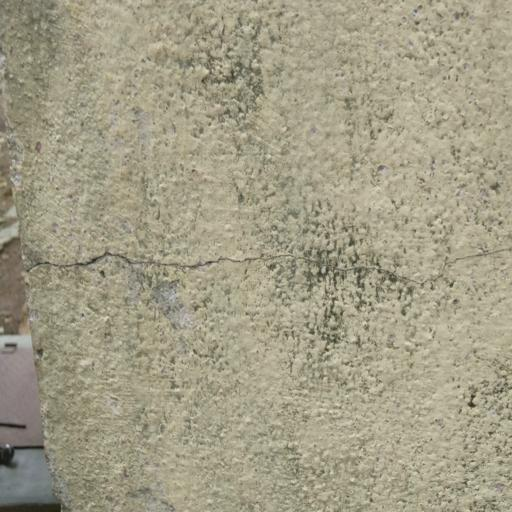minor_crack: (23, 238, 512, 285)
